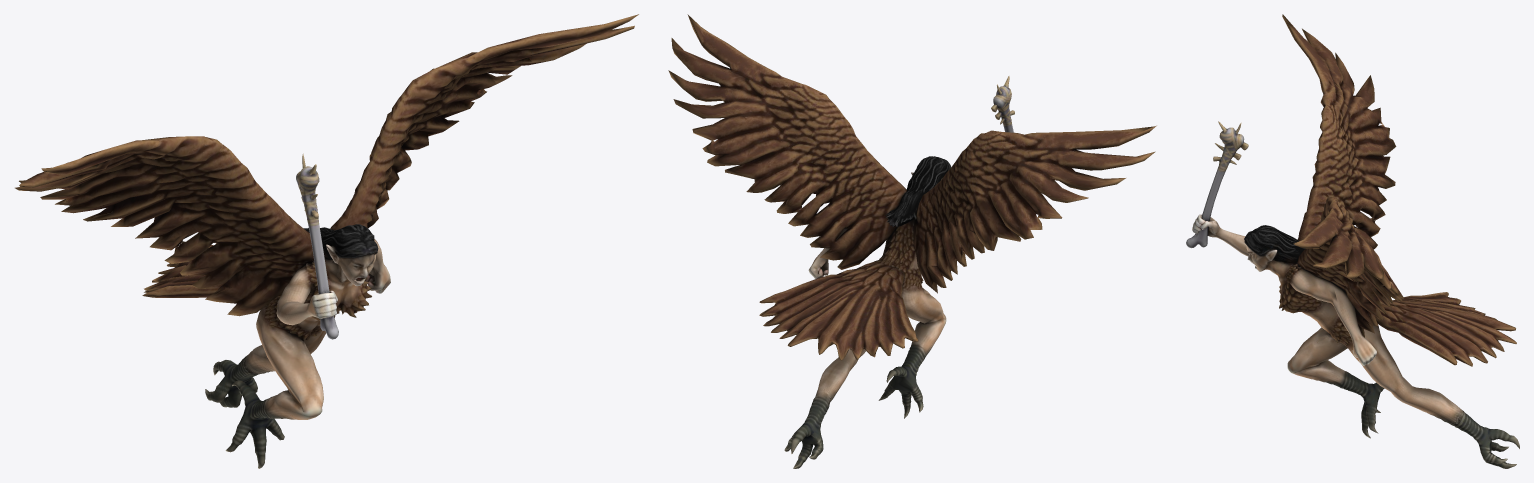
Rendered from MZ4250 - Harpy.glb.
3 renders of one model, left to right at view 1: azimuth 30°, elevation 25°; view 2: azimuth 150°, elevation 25°; view 3: azimuth 270°, elevation 25°, orthographic. The views are drawn at different scales.
Parts seen in each view (by area): view 1: wing1_low.001, body_low.001, wing2_low.001, club_low.001, tail_low.001; view 2: wing2_low.001, wing1_low.001, tail_low.001, body_low.001, club_low.001; view 3: body_low.001, wing1_low.001, wing2_low.001, tail_low.001, club_low.001.
Boxes of the visible parts, <box> form: wing1_low.001: <box>15,136,313,316</box>; body_low.001: <box>205,224,390,468</box>; wing2_low.001: <box>330,14,638,230</box>; club_low.001: <box>296,153,338,339</box>; tail_low.001: <box>142,243,218,297</box>; wing2_low.001: <box>668,14,906,269</box>; wing1_low.001: <box>913,125,1156,293</box>; tail_low.001: <box>759,262,918,360</box>; body_low.001: <box>784,156,951,468</box>; club_low.001: <box>991,76,1014,132</box>; body_low.001: <box>1192,214,1519,468</box>; wing1_low.001: <box>1282,14,1396,249</box>; wing2_low.001: <box>1293,197,1403,337</box>; tail_low.001: <box>1374,292,1516,366</box>; club_low.001: <box>1186,121,1248,248</box>.
Bounding box in the file's own units: 8.28 × 5.37 × 4.9.
1 material, 1 textured.
